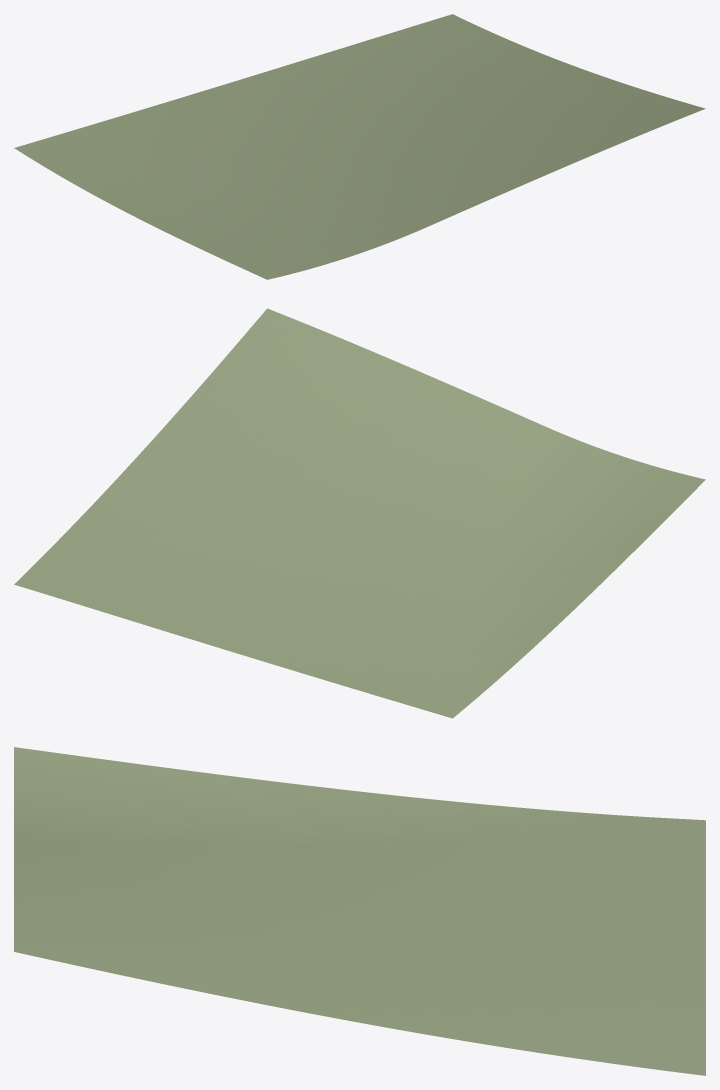
Rendered from expanse-25-4.glb.
The picture shows the model from 3 angles, top to bottom: view 1: azimuth 30°, elevation 25°; view 2: azimuth 150°, elevation 25°; view 3: azimuth 270°, elevation 25°; orthographic projection. The views are drawn at different scales.
Parts seen in each view (by area): view 1: expanse-25-4; view 2: expanse-25-4; view 3: expanse-25-4.
Part boxes in pixels (<box>): expanse-25-4: <box>14,14,705,279</box>; expanse-25-4: <box>14,308,705,718</box>; expanse-25-4: <box>14,747,705,1075</box>.
Size of the model in its own units: 256 by 65.64 by 256.
